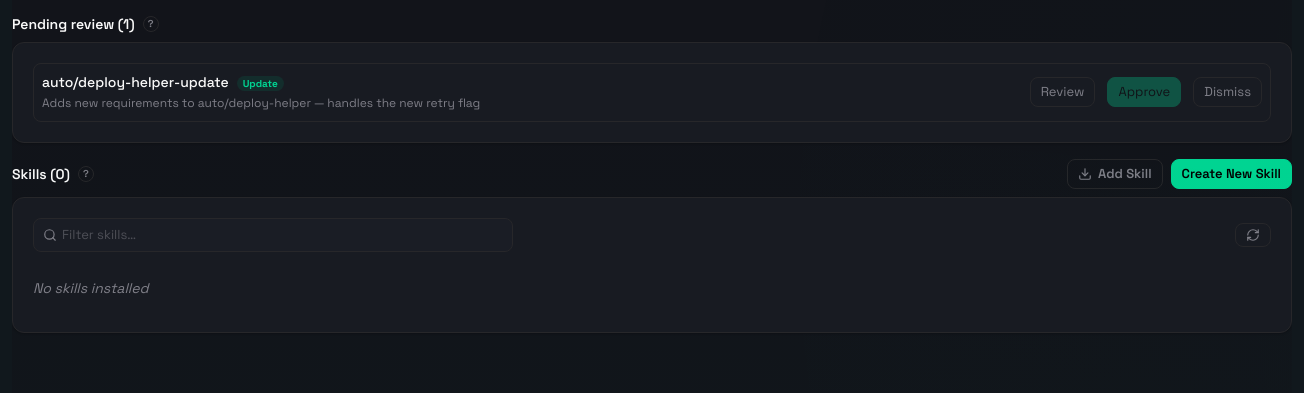
Test: SkillsTab pending updates › tells the user to dismiss an update whose target is gone
The image size is (1304, 393).
Click the button "Review" at (1062, 92), box 1030,77 -> 1095,107
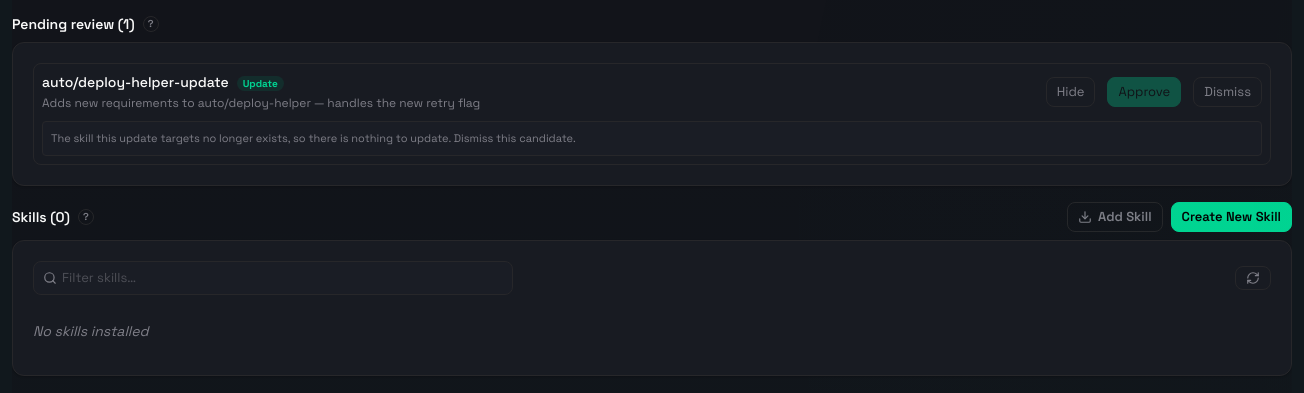
Check: the button "Approve" is disabled, box 1108,77 -> 1181,107
Check: the text "no longer exists, so there is nothing" is shown, box 51,131 -> 576,145
